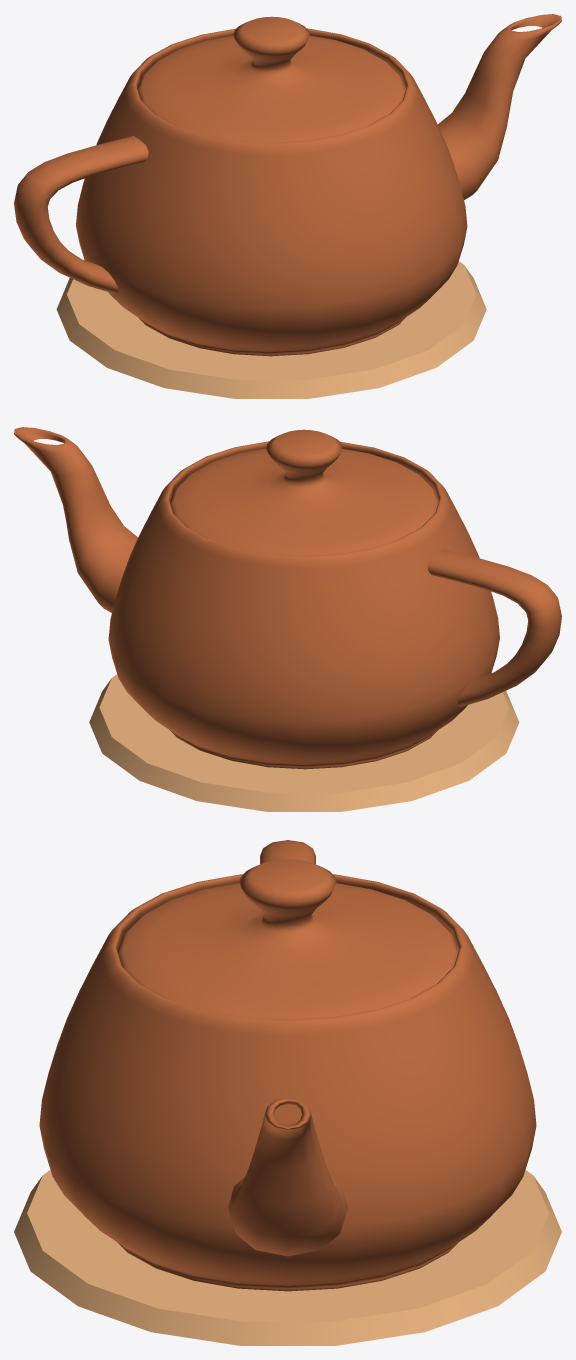
The picture shows the model from 3 angles, top to bottom: view 1: azimuth 30°, elevation 25°; view 2: azimuth 150°, elevation 25°; view 3: azimuth 270°, elevation 25°; orthographic projection. The views are drawn at different scales.
Bounding box in the file's own units: 3.06 × 1.52 × 2.1.
